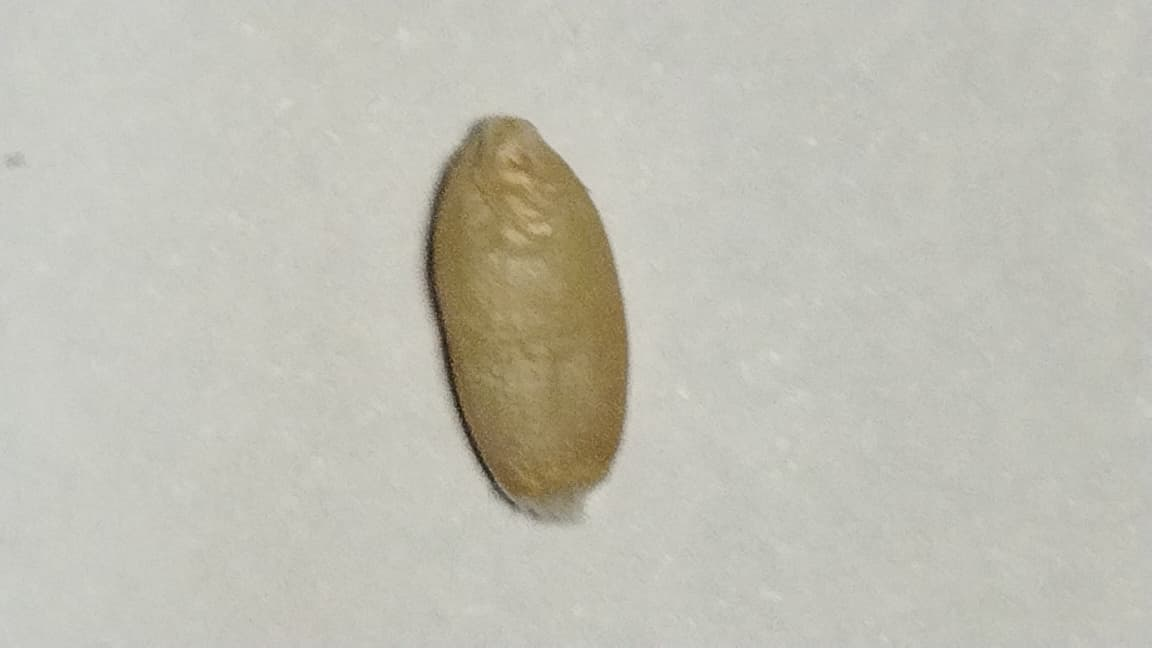healthy: (434, 129, 627, 500)
